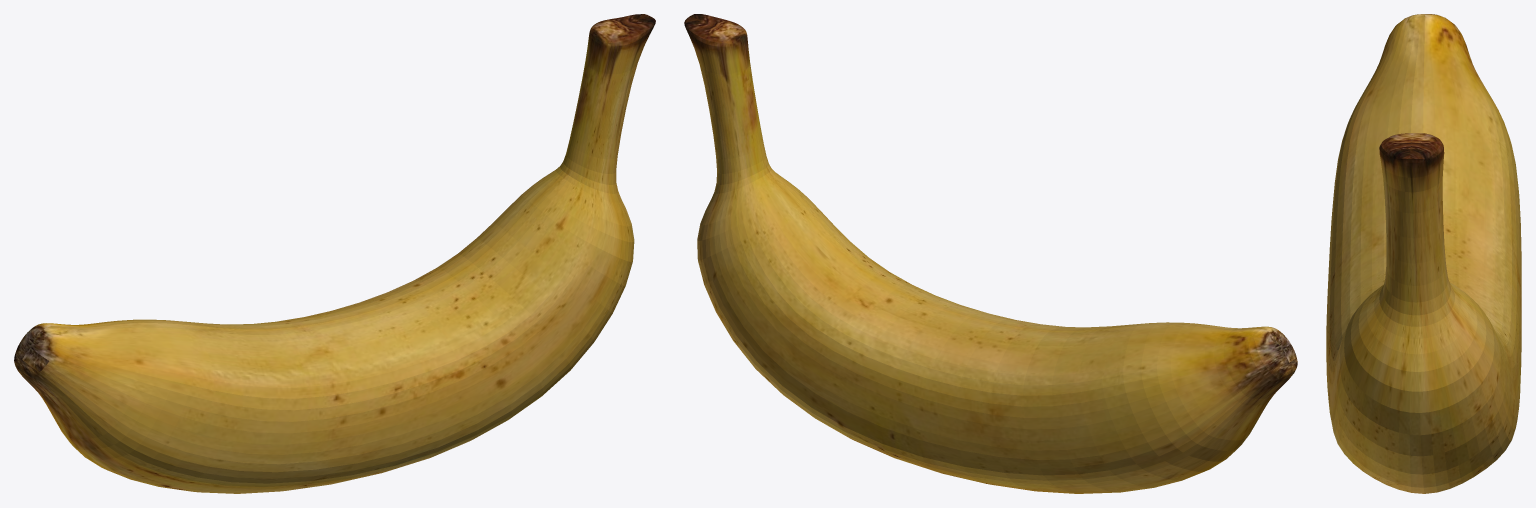
The model's file is banana3d.glb.
3 renders of one model, left to right at view 1: azimuth 30°, elevation 25°; view 2: azimuth 150°, elevation 25°; view 3: azimuth 270°, elevation 25°, orthographic. The views are drawn at different scales.
Parts seen in each view (by area): view 1: Banana; view 2: Banana; view 3: Banana.
Part boxes in pixels (x1=…): Banana: x1=14, y1=14, x2=655, y2=493; Banana: x1=684, y1=14, x2=1297, y2=493; Banana: x1=1326, y1=14, x2=1521, y2=493.
Bounding box in the file's own units: 4.31 × 2.57 × 1.
1 material, 1 textured.
